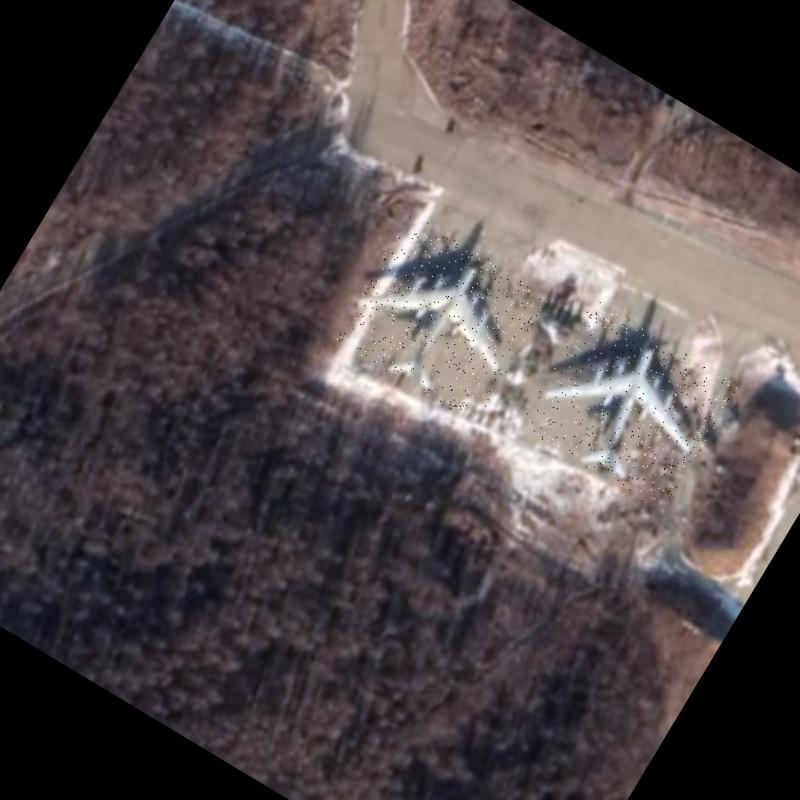A17: (517, 298, 739, 514), (332, 212, 550, 424)
